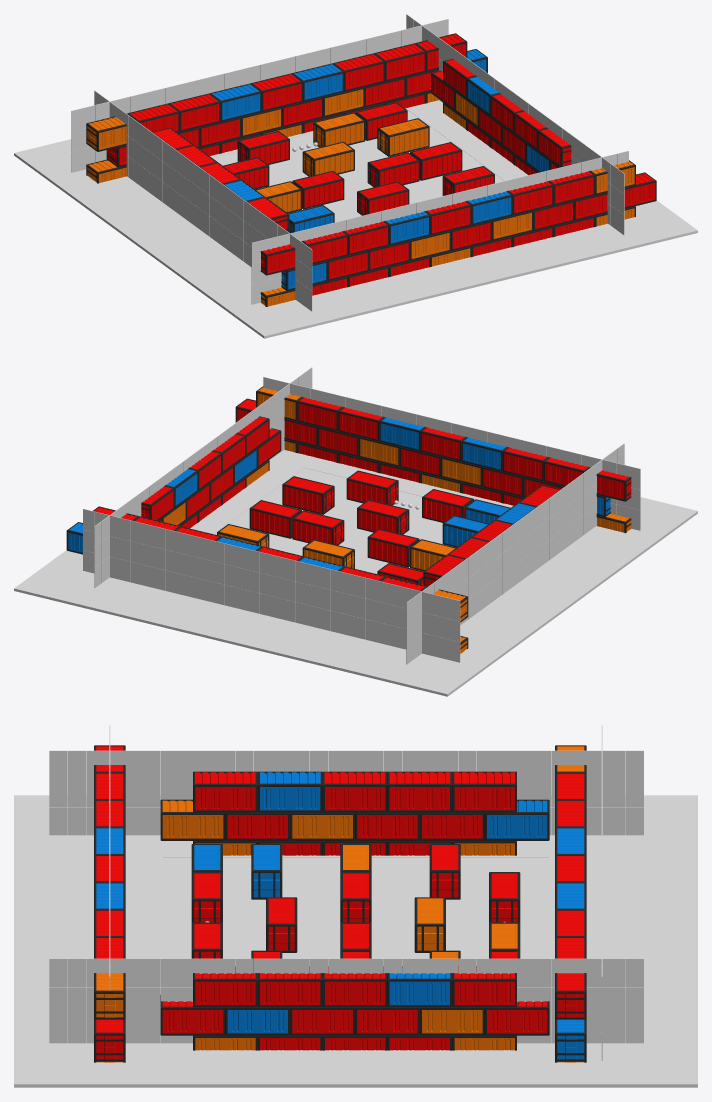
File: dockyard-compact.glb
3 renders of one model, top to bottom at view 1: azimuth 30°, elevation 25°; view 2: azimuth 150°, elevation 25°; view 3: azimuth 270°, elevation 25°, orthographic. The views are drawn at different scales.
Parts seen in each view (by area): view 1: Cargo yard apron, Cargo container 06, Cargo container 08, Cargo container 10, Cargo container 12, Cargo container 05, Cargo container 07, Cargo container 11, Perimeter cargo course 3.003, Perimeter cargo course 3.002, Perimeter cargo course 3.007, Perimeter cargo course 3.004 (+46 smaller); view 2: Cargo yard apron, Cargo container 04, Cargo container 08, Cargo container 09, Cargo container 14, Cargo container 05, Cargo container 07, Cargo container 13, Perimeter cargo course 3.011, Perimeter cargo course 3.012, Perimeter cargo course 3.013, Perimeter cargo course 3.014 (+27 smaller); view 3: Cargo yard apron, Perimeter cargo course 3.026, Perimeter cargo course 3.025, Perimeter cargo course 3.023, Perimeter cargo course 3.024, Perimeter cargo course 3.027, Perimeter cargo course 2.024, Perimeter cargo course 2.029, Perimeter cargo course 3.020, Perimeter cargo course 3.019, Perimeter cargo course 3.022, Perimeter cargo course 3.018 (+50 smaller).
Boxes of the visible parts, x1,y1,x2,y2 form: Cargo yard apron: (14, 100, 697, 338); Cargo container 06: (377, 118, 429, 156); Cargo container 08: (367, 152, 419, 187); Cargo container 10: (302, 141, 354, 176); Cargo container 12: (313, 112, 365, 147); Cargo container 05: (410, 142, 462, 180); Cargo container 07: (292, 171, 344, 209); Cargo container 11: (237, 131, 289, 164); Perimeter cargo course 3.003: (209, 83, 261, 121); Perimeter cargo course 3.002: (168, 93, 220, 131); Perimeter cargo course 3.007: (374, 43, 426, 81); Perimeter cargo course 3.004: (251, 73, 302, 111); Cargo yard apron: (14, 449, 697, 696); Cargo container 04: (282, 476, 334, 514); Cargo container 08: (292, 510, 344, 545); Cargo container 09: (357, 499, 409, 534); Cargo container 14: (346, 470, 398, 505); Cargo container 05: (249, 500, 301, 538); Cargo container 07: (367, 529, 419, 567); Cargo container 13: (422, 489, 474, 522); Perimeter cargo course 3.011: (338, 407, 384, 441); Perimeter cargo course 3.012: (379, 417, 425, 451); Perimeter cargo course 3.013: (420, 427, 466, 461); Perimeter cargo course 3.014: (461, 437, 507, 471); Cargo yard apron: (14, 795, 697, 1087); Perimeter cargo course 3.026: (387, 771, 452, 812); Perimeter cargo course 3.025: (322, 771, 387, 812); Perimeter cargo course 3.023: (193, 771, 257, 812); Perimeter cargo course 3.024: (258, 771, 322, 812); Perimeter cargo course 3.027: (452, 771, 516, 812); Perimeter cargo course 2.024: (160, 799, 225, 840); Perimeter cargo course 2.029: (484, 799, 549, 840); Perimeter cargo course 3.020: (322, 966, 387, 1007); Perimeter cargo course 3.019: (387, 966, 452, 1007); Perimeter cargo course 3.022: (193, 966, 257, 1007); Perimeter cargo course 3.018: (452, 966, 516, 1007).
Size of the model in its own units: 92 by 14.62 by 92.
